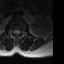CCS_normal: (15, 27, 18, 37)
LFS_normal: (20, 27, 22, 36)
LLS_normal: (18, 27, 20, 36)
RFS_normal: (10, 26, 13, 34)
RLS_normal: (13, 27, 15, 36)
